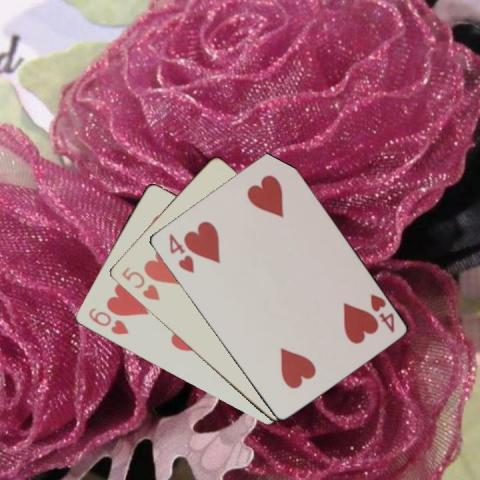4h: (166, 230, 196, 275), (367, 290, 395, 334)
5h: (118, 263, 161, 303)
6h: (85, 304, 130, 336)
